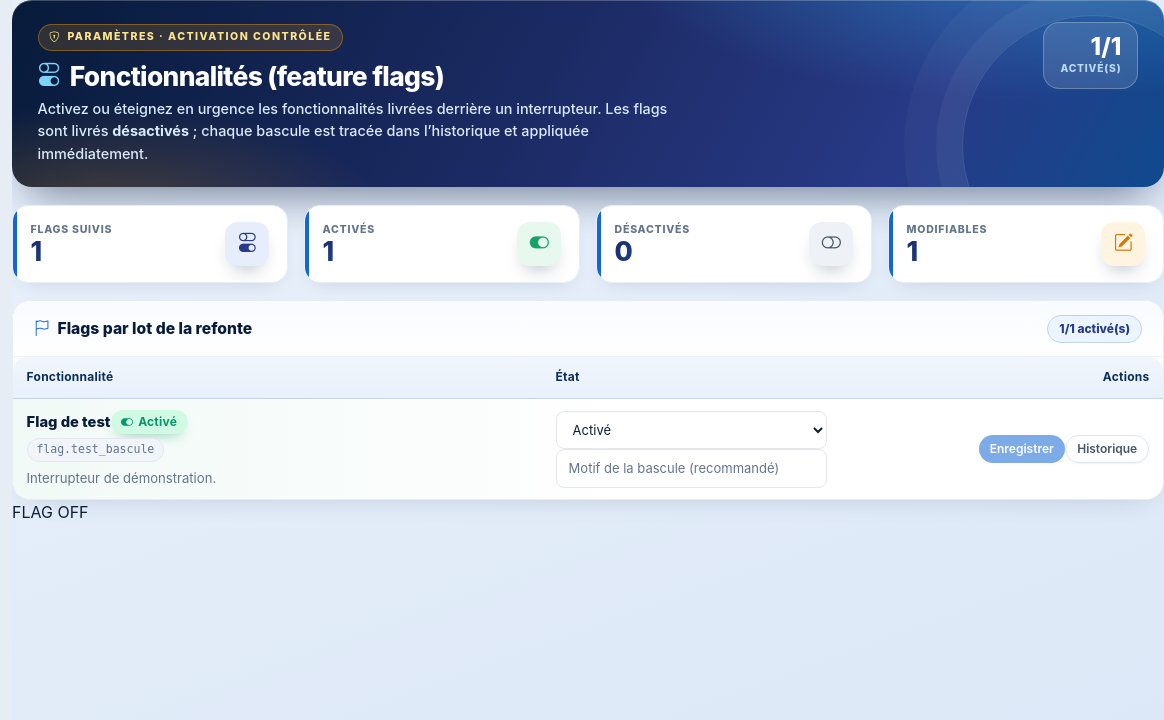
Test case: pages/FeatureFlags.jsx — P00-08 › affiche l’historique des bascules à la demande
Expected: the text "Flag de test" is shown, [27,412,110,430]
What coordinates should you click on to do the following:
click the button "Historique"
I would click on:
 (1107, 449)
Its box is [1065,435,1149,463].
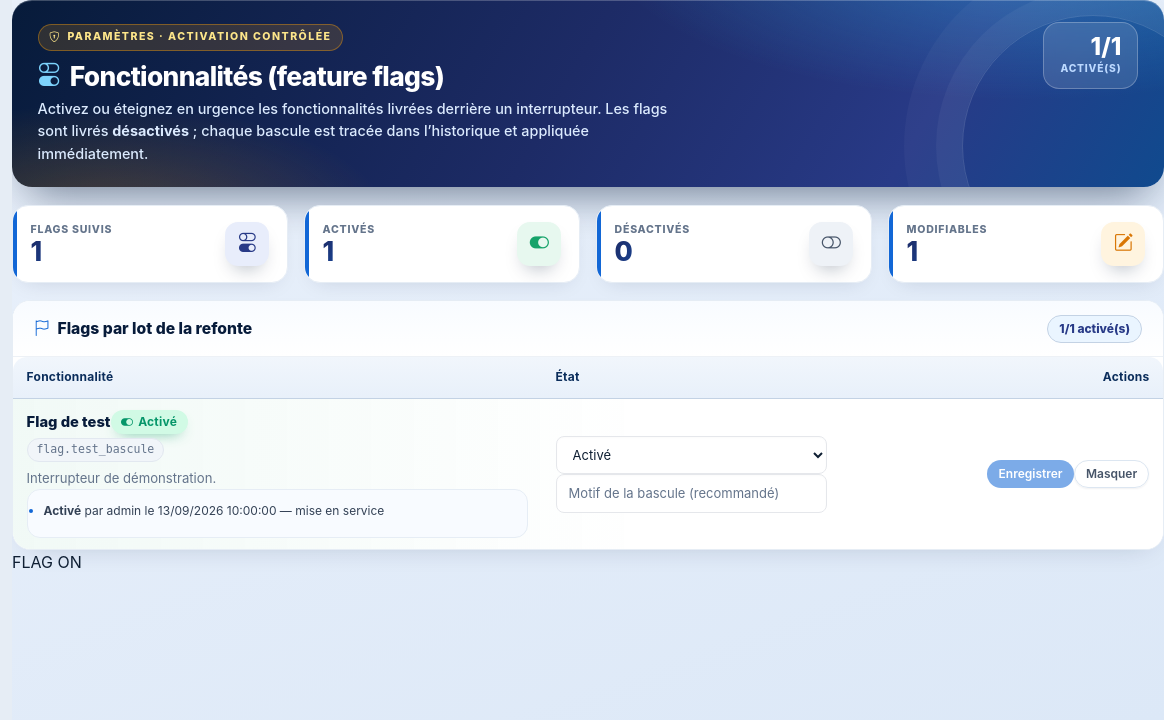
Result: the list item "Activé par admin le 13/09/2026 10:00:00 — mise en service" is shown at [44,503,384,518]
